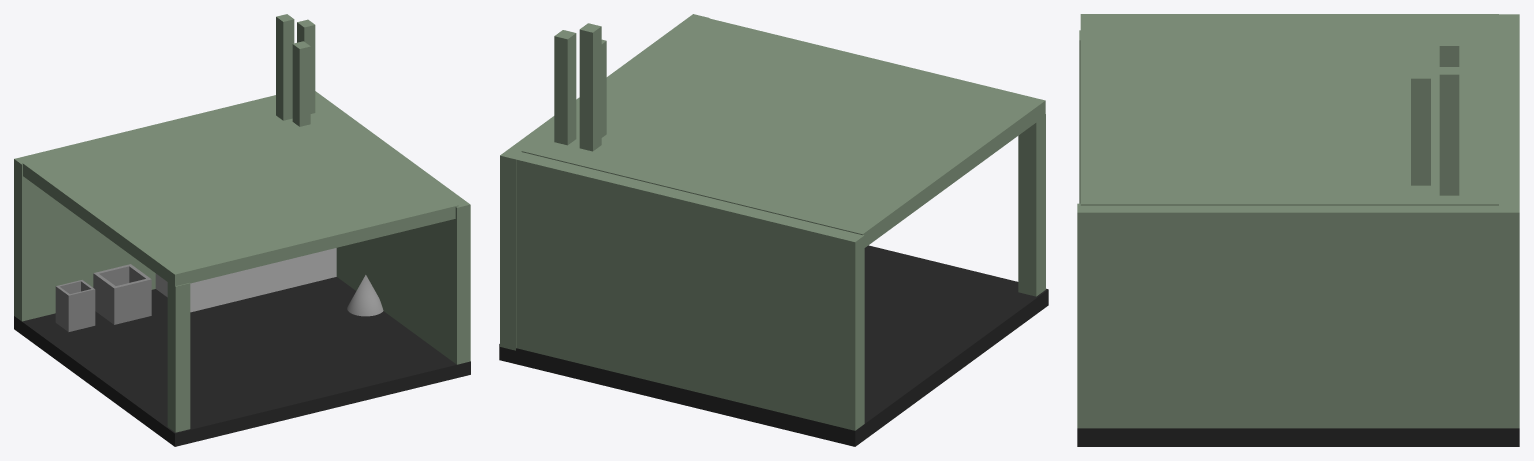
Rendered from factory.fbx.
3 renders of one model, left to right at view 1: azimuth 30°, elevation 25°; view 2: azimuth 150°, elevation 25°; view 3: azimuth 270°, elevation 25°, orthographic. The views are drawn at different scales.
Visible parts, largest first — view 1: Cube.004, Cube, Cube.001, Cube.002, Cube.005, Cube.003, Cube.006, Cube.008, Cube.009, Cube.011, Cone, Cube.010; view 2: Cube.002, Cube.004, Cube, Cube.001, Cube.003, Cube.009, Cube.010, Cube.011; view 3: Cube.001, Cube.004, Cube, Cube.002, Cube.010, Cube.011, Cube.009.
Part boxes in pixels (bbox=[...]): Cube.004: bbox=[22, 100, 458, 286]; Cube: bbox=[14, 277, 470, 446]; Cube.001: bbox=[315, 91, 470, 364]; Cube.002: bbox=[14, 95, 275, 321]; Cube.005: bbox=[155, 248, 336, 312]; Cube.003: bbox=[167, 282, 190, 432]; Cube.006: bbox=[93, 264, 151, 324]; Cube.008: bbox=[55, 280, 95, 331]; Cube.009: bbox=[276, 14, 294, 120]; Cube.011: bbox=[292, 41, 310, 126]; Cone: bbox=[347, 275, 383, 316]; Cube.010: bbox=[297, 19, 315, 113]; Cube.002: bbox=[516, 153, 864, 430]; Cube.004: bbox=[521, 17, 1045, 247]; Cube: bbox=[499, 245, 1048, 446]; Cube.001: bbox=[500, 14, 709, 350]; Cube.003: bbox=[1018, 114, 1045, 296]; Cube.009: bbox=[579, 23, 601, 151]; Cube.010: bbox=[554, 30, 576, 145]; Cube.011: bbox=[601, 39, 606, 137]; Cube.001: bbox=[1077, 203, 1519, 428]; Cube.004: bbox=[1080, 14, 1498, 205]; Cube: bbox=[1077, 428, 1519, 446]; Cube.002: bbox=[1499, 14, 1519, 203]; Cube.010: bbox=[1439, 67, 1459, 195]; Cube.011: bbox=[1411, 71, 1430, 185]; Cube.009: bbox=[1439, 38, 1459, 66].
Bounding box in the file's own units: 1022 × 890 × 962.
